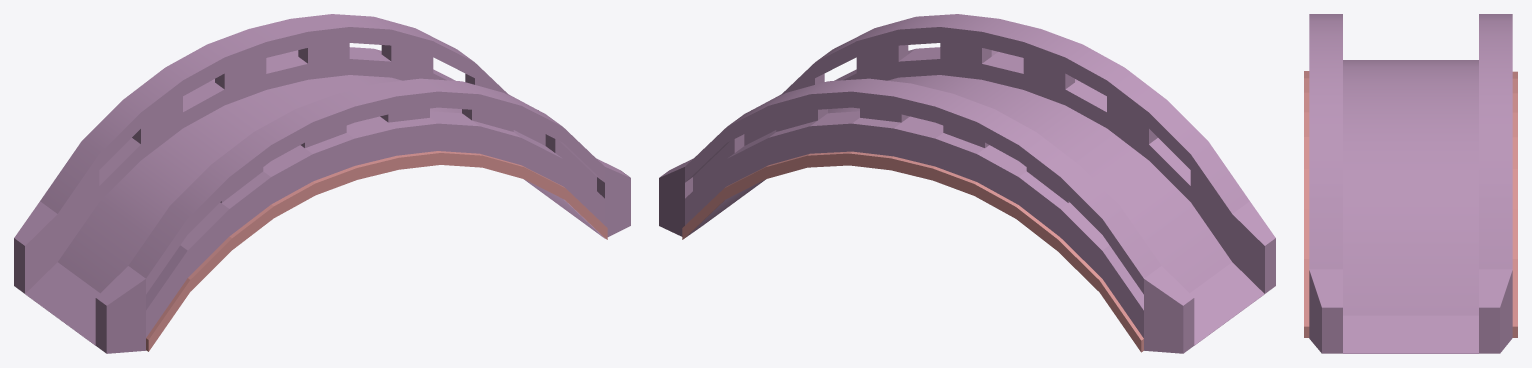
File: Bridge.FBX
3 views of the same model, side by side, from view 1: azimuth 30°, elevation 25°; view 2: azimuth 150°, elevation 25°; view 3: azimuth 270°, elevation 25° (orthographic). The views are drawn at different scales.
Parts seen in each view (by area): view 1: Bridge; view 2: Bridge; view 3: Bridge.
Part boxes in pixels (left/top/right/bottom): Bridge: left=14, top=14, right=630, bottom=353; Bridge: left=659, top=14, right=1275, bottom=353; Bridge: left=1304, top=14, right=1517, bottom=353.
Size of the model in its own units: 5.71 by 2.01 by 2.1.
